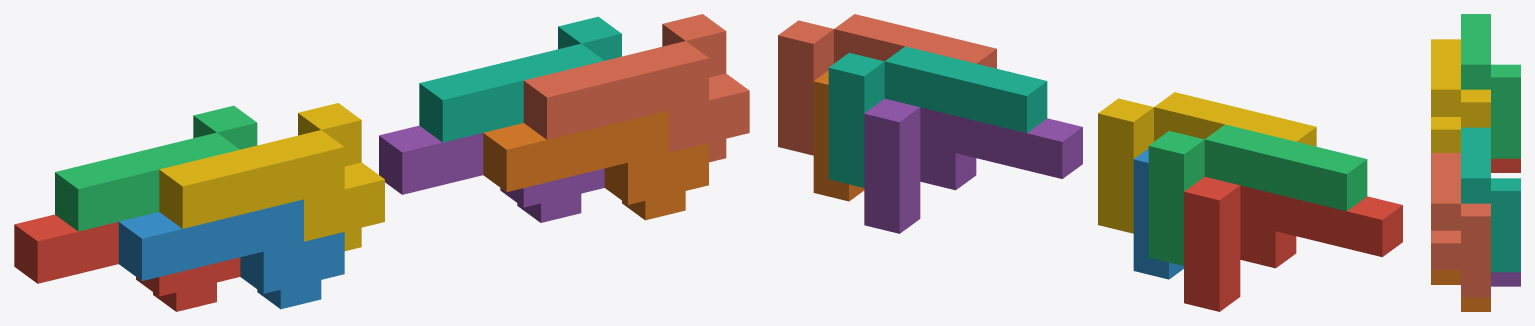
File: tiling.obj
3 views of the same model, side by side, from view 1: azimuth 30°, elevation 25°; view 2: azimuth 150°, elevation 25°; view 3: azimuth 270°, elevation 25° (orthographic). The views are drawn at different scales.
Parts seen in each view (by area): view 1: copy_1_domain_8, copy_1_domain_4, copy_1_domain_2, copy_1_domain_6, copy_1_domain_3, copy_1_domain_7, copy_1_domain_1, copy_1_domain_5; view 2: copy_1_domain_1, copy_1_domain_5, copy_1_domain_7, copy_1_domain_3, copy_1_domain_4, copy_1_domain_8, copy_1_domain_6, copy_1_domain_2; view 3: copy_1_domain_8, copy_1_domain_7, copy_1_domain_3, copy_1_domain_4, copy_1_domain_6, copy_1_domain_1, copy_1_domain_5.
Part boxes in pixels (box(x1,y1,x2,y2)): copy_1_domain_8: box(523, 14, 749, 162); copy_1_domain_4: box(159, 103, 384, 251); copy_1_domain_2: box(118, 199, 344, 309); copy_1_domain_6: box(483, 110, 708, 220); copy_1_domain_3: box(55, 105, 257, 231); copy_1_domain_7: box(419, 16, 621, 142); copy_1_domain_1: box(14, 214, 240, 311); copy_1_domain_5: box(379, 125, 604, 222); copy_1_domain_1: box(1184, 176, 1402, 311); copy_1_domain_5: box(864, 98, 1082, 233); copy_1_domain_7: box(828, 46, 1047, 187); copy_1_domain_3: box(1148, 124, 1367, 265); copy_1_domain_4: box(1098, 92, 1316, 233); copy_1_domain_8: box(778, 14, 996, 155); copy_1_domain_6: box(813, 70, 864, 201); copy_1_domain_2: box(1133, 148, 1183, 279); copy_1_domain_8: box(1431, 153, 1490, 297); copy_1_domain_7: box(1461, 127, 1520, 272); copy_1_domain_3: box(1461, 14, 1520, 158); copy_1_domain_4: box(1431, 39, 1490, 152); copy_1_domain_6: box(1431, 270, 1490, 311); copy_1_domain_1: box(1491, 158, 1520, 172); copy_1_domain_5: box(1491, 272, 1520, 286).
Bounding box in the file's own units: 17 × 4 × 3.
